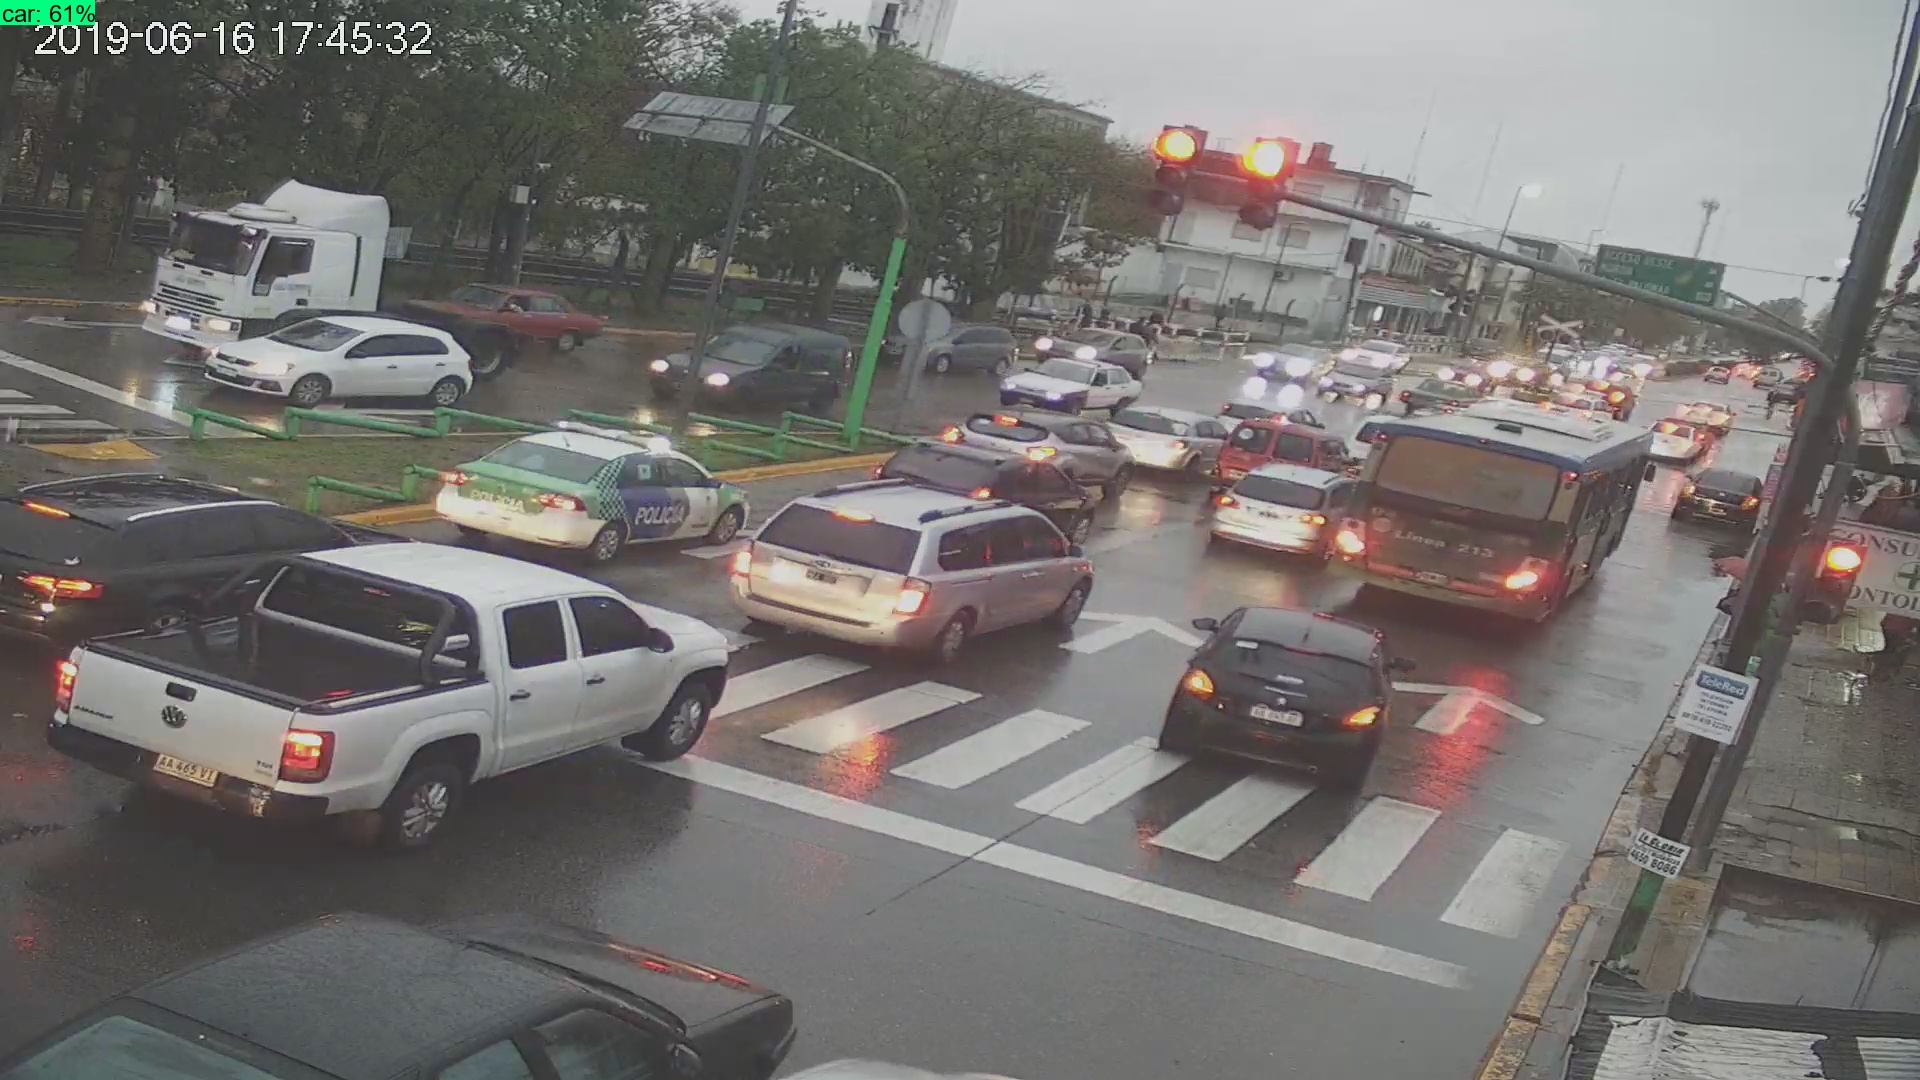bus: (1356, 396, 1648, 621)
car: (54, 550, 736, 847), (7, 895, 802, 1080), (729, 480, 1098, 651), (1168, 584, 1400, 800), (191, 311, 479, 414), (647, 293, 856, 427), (1215, 464, 1348, 559), (1011, 352, 1149, 422), (1668, 459, 1764, 539)
police car: (431, 422, 766, 568)
truck: (145, 189, 516, 378)
